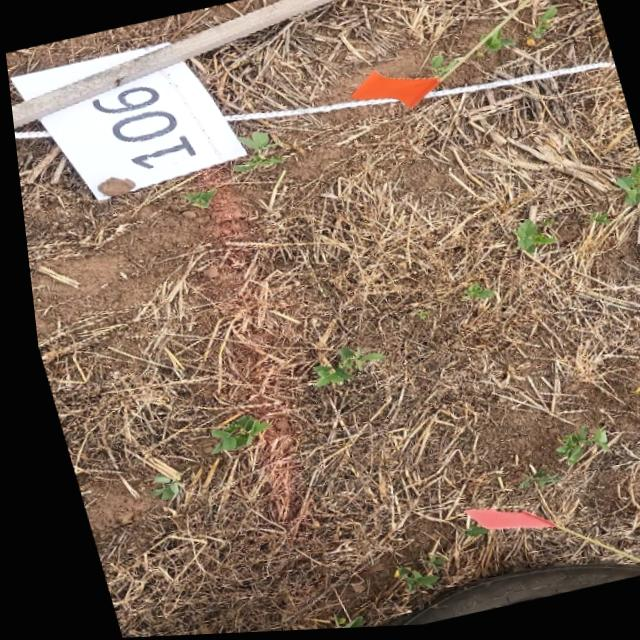soy_plant: (305, 350, 376, 387), (201, 415, 257, 454), (228, 133, 281, 174), (544, 431, 596, 469), (508, 222, 549, 258), (610, 170, 640, 210), (380, 569, 422, 593), (529, 10, 556, 42), (304, 367, 342, 388), (507, 472, 549, 491), (138, 474, 168, 500), (482, 32, 512, 55), (179, 190, 211, 208), (429, 56, 455, 78), (455, 285, 485, 302), (318, 617, 353, 631)
